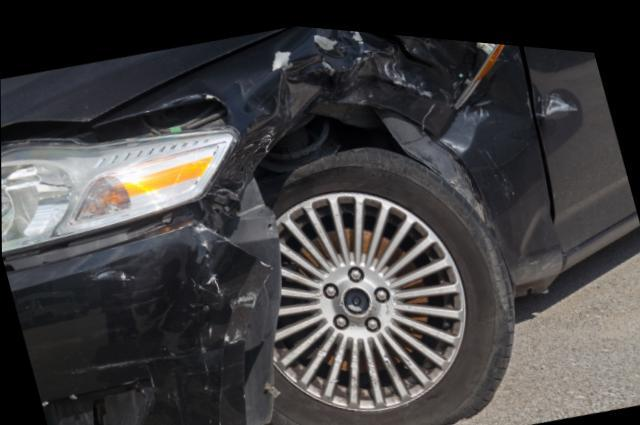crack: (122, 206, 187, 232)
dent: (214, 22, 454, 184)
scratch: (80, 220, 262, 371)
tire flat: (261, 132, 515, 425)
